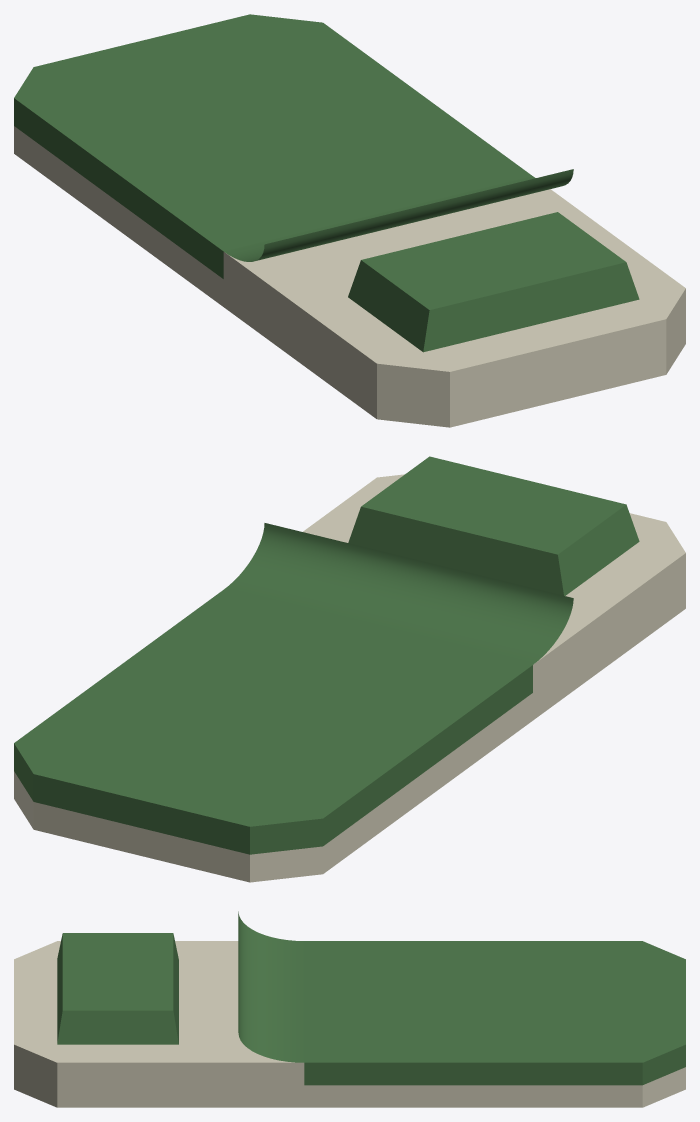
The model's file is bed_floor.glb.
3 views of the same model, one above another, from view 1: azimuth 30°, elevation 25°; view 2: azimuth 150°, elevation 25°; view 3: azimuth 270°, elevation 25° (orthographic). The views are drawn at different scales.
Parts seen in each view (by area): view 1: bed_floor; view 2: bed_floor; view 3: bed_floor.
Part boxes in pixels (bbox=[...]): bed_floor: bbox=[14, 14, 685, 427]; bed_floor: bbox=[14, 456, 685, 882]; bed_floor: bbox=[14, 911, 685, 1107].
Bounding box in the file's own units: 0.3203 × 0.0921 × 0.7473.
